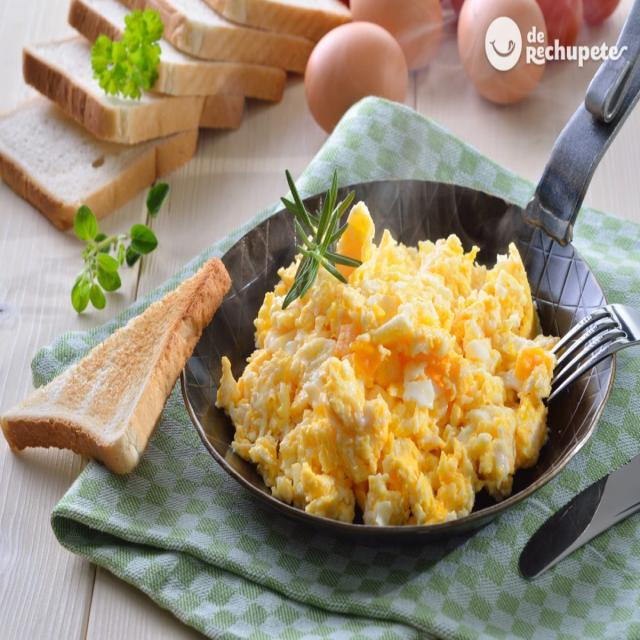huevos: (234, 219, 550, 500), (302, 21, 410, 120)
